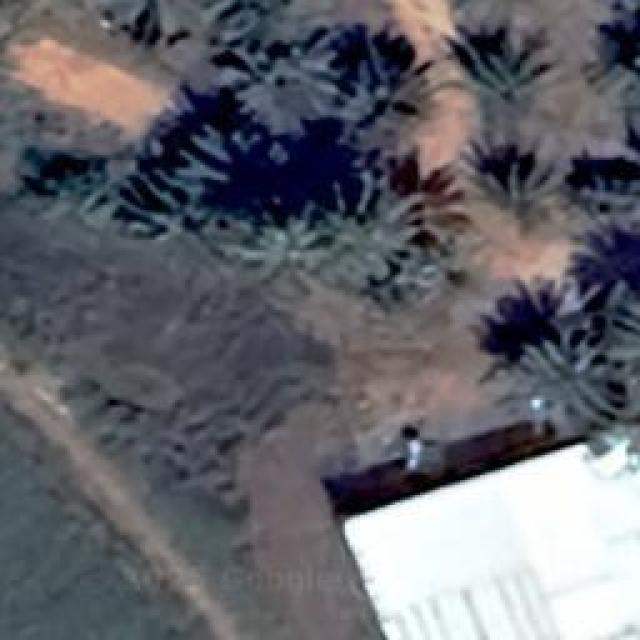PalmTree: (30, 55, 625, 338), (140, 120, 280, 262), (308, 158, 442, 282), (225, 25, 340, 125), (515, 324, 620, 418), (468, 32, 562, 126), (348, 41, 432, 139), (468, 144, 554, 232), (568, 137, 638, 235), (248, 208, 318, 286), (105, 0, 220, 38), (446, 0, 546, 27)
